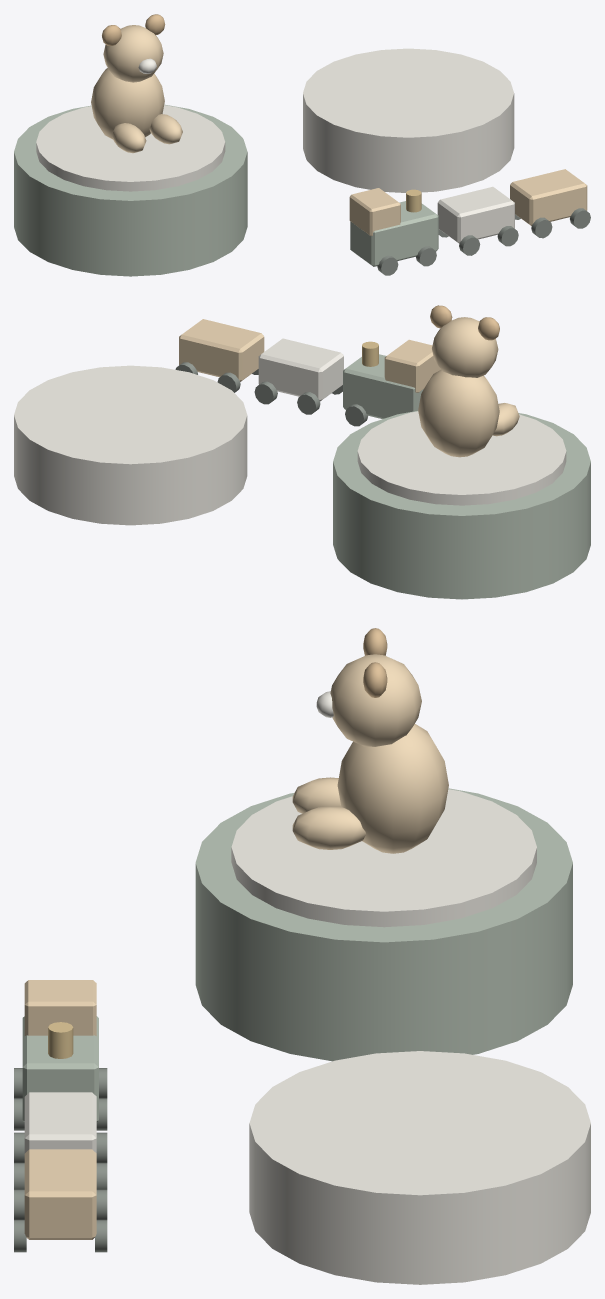
File: play_set.glb
3 views of the same model, one above another, from view 1: azimuth 30°, elevation 25°; view 2: azimuth 150°, elevation 25°; view 3: azimuth 270°, elevation 25° (orthographic). The views are drawn at different scales.
Parts seen in each view (by area): view 1: play_set_ivory, play_set_sage, play_set_oak_light, play_set_dark, play_set_oak; view 2: play_set_ivory, play_set_sage, play_set_oak_light, play_set_dark, play_set_oak, play_set_brass; view 3: play_set_ivory, play_set_sage, play_set_oak_light, play_set_dark, play_set_oak, play_set_brass.
Part boxes in pixels (<box>): play_set_ivory: <box>36,48,514,243</box>; play_set_sage: <box>14,104,438,276</box>; play_set_oak_light: <box>91,25,587,235</box>; play_set_dark: <box>377,208,590,275</box>; play_set_oak: <box>102,14,165,45</box>; play_set_ivory: <box>14,338,566,525</box>; play_set_sage: <box>333,354,590,599</box>; play_set_oak_light: <box>179,317,519,457</box>; play_set_dark: <box>175,362,368,426</box>; play_set_oak: <box>430,305,499,340</box>; play_set_brass: <box>362,341,378,366</box>; play_set_ivory: <box>24,691,590,1284</box>; play_set_sage: <box>22,788,572,1121</box>; play_set_oak_light: <box>24,654,448,1239</box>; play_set_dark: <box>14,1068,107,1252</box>; play_set_oak: <box>363,628,387,697</box>; play_set_brass: <box>48,1022,73,1058</box>.
Bounding box in the file's own units: 1 × 0.415 × 0.642.
